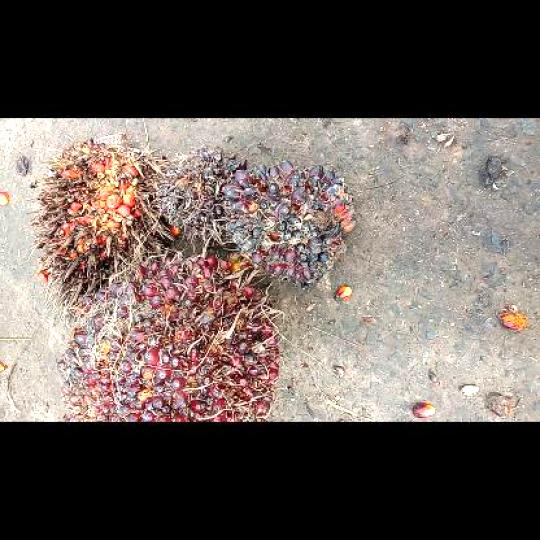masak: (56, 246, 284, 420)
terlalu masak: (23, 129, 154, 328)
